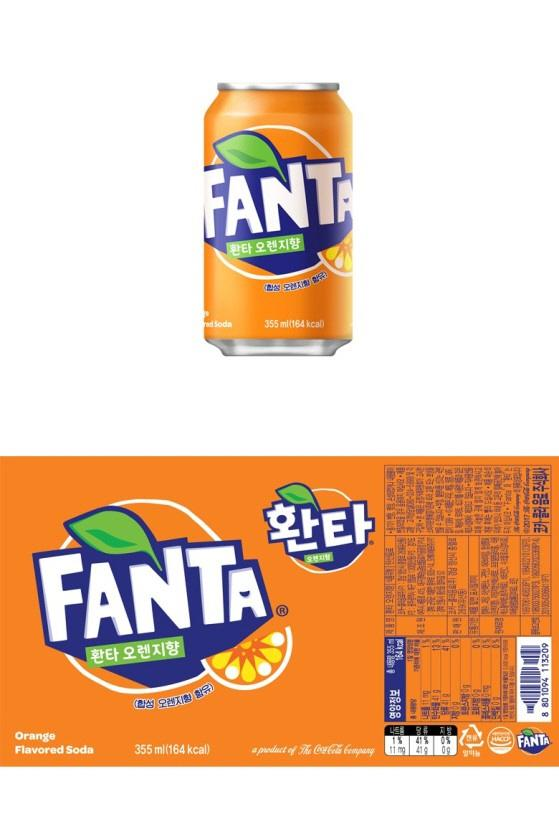fanta_orange: (189, 80, 362, 361)
